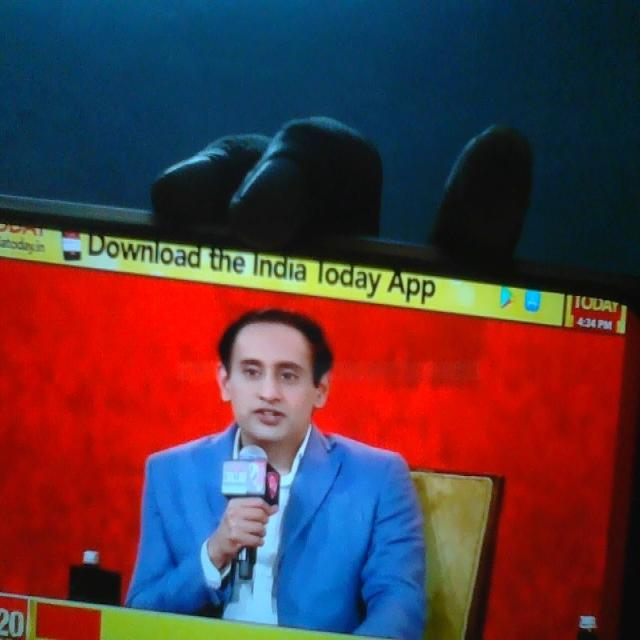fake: (222, 278, 324, 470)
